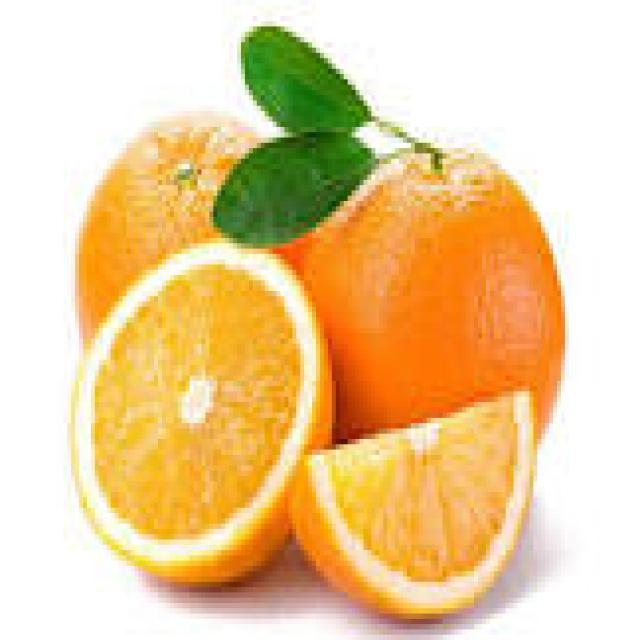orange: (71, 28, 562, 613)
